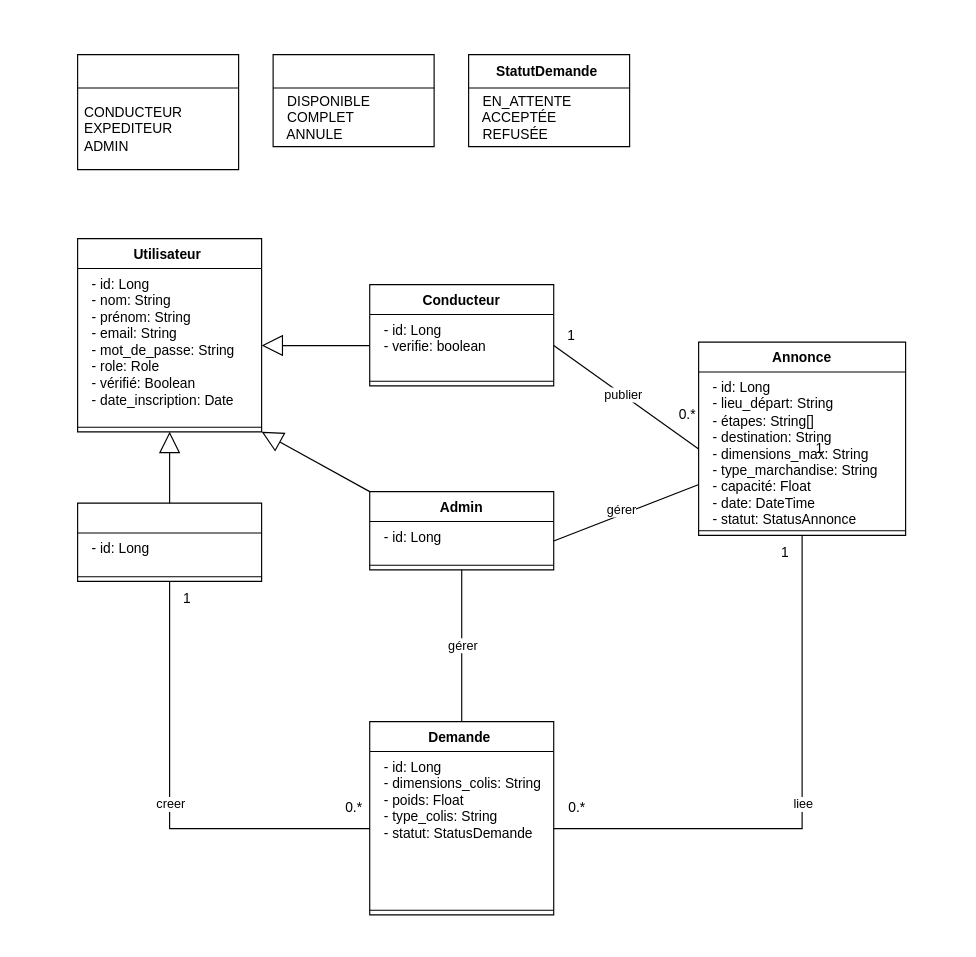
The diagram is 976 pixels wide and 957 high, and some of its shapes have lost their labels. Here are the shapes that lost their labels. From the top down, the box of each, then its label:
(76, 53, 239, 170): Role
(272, 53, 434, 147): StatusAnnonce
(76, 502, 262, 581): Expéditeur
